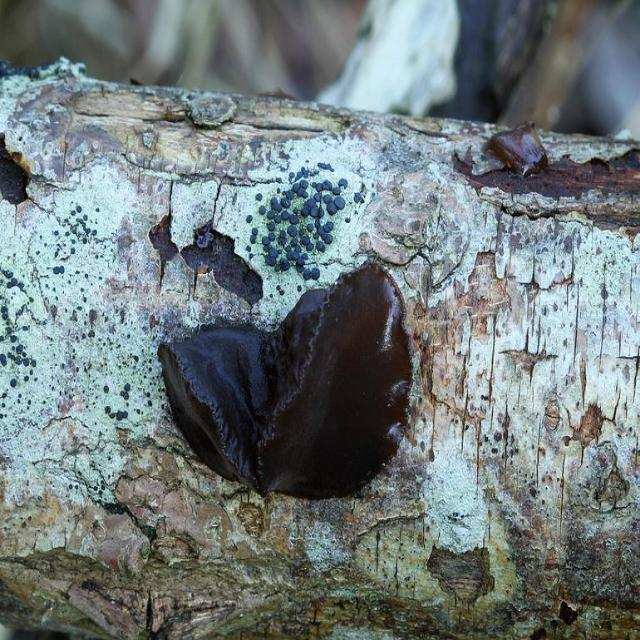Auricularia auricula: (156, 264, 412, 490)
